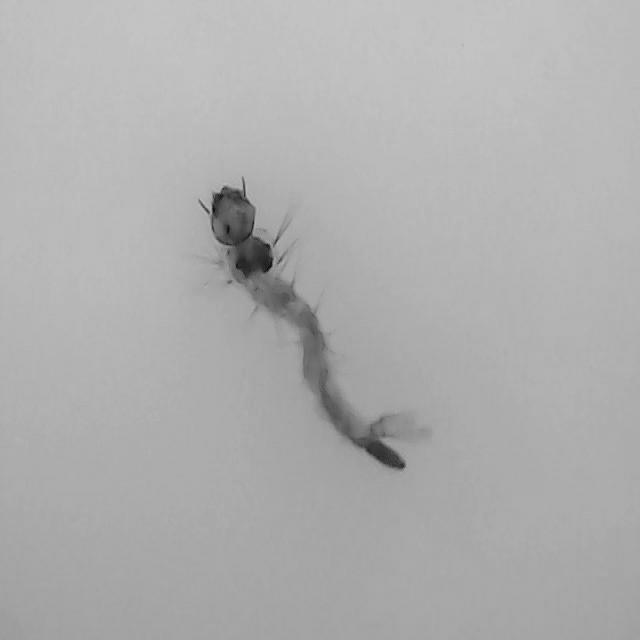larvas: (205, 187, 418, 468)
